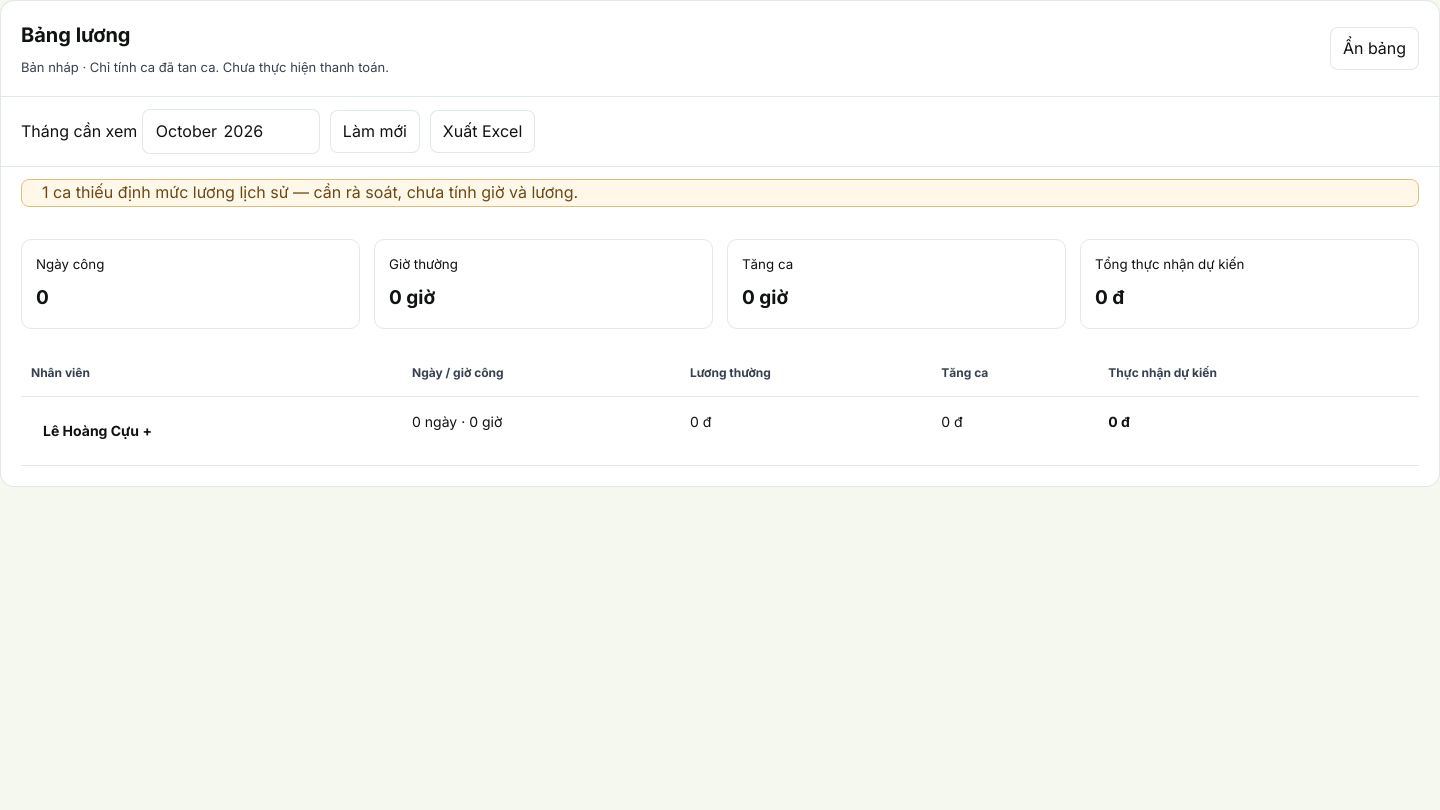
Test: PayrollPanel › renders former members and unknown historical wage snapshots without fabricating rates or showing future-rate editor
The image size is (1440, 810).
Check: the text "1 ca thiếu định mức lương lịch sử — cần rà soát" is shown, box [21,179,1419,207]
Click the button "Lê Hoàng Cựu +" at (97, 431), box [31,411,164,451]
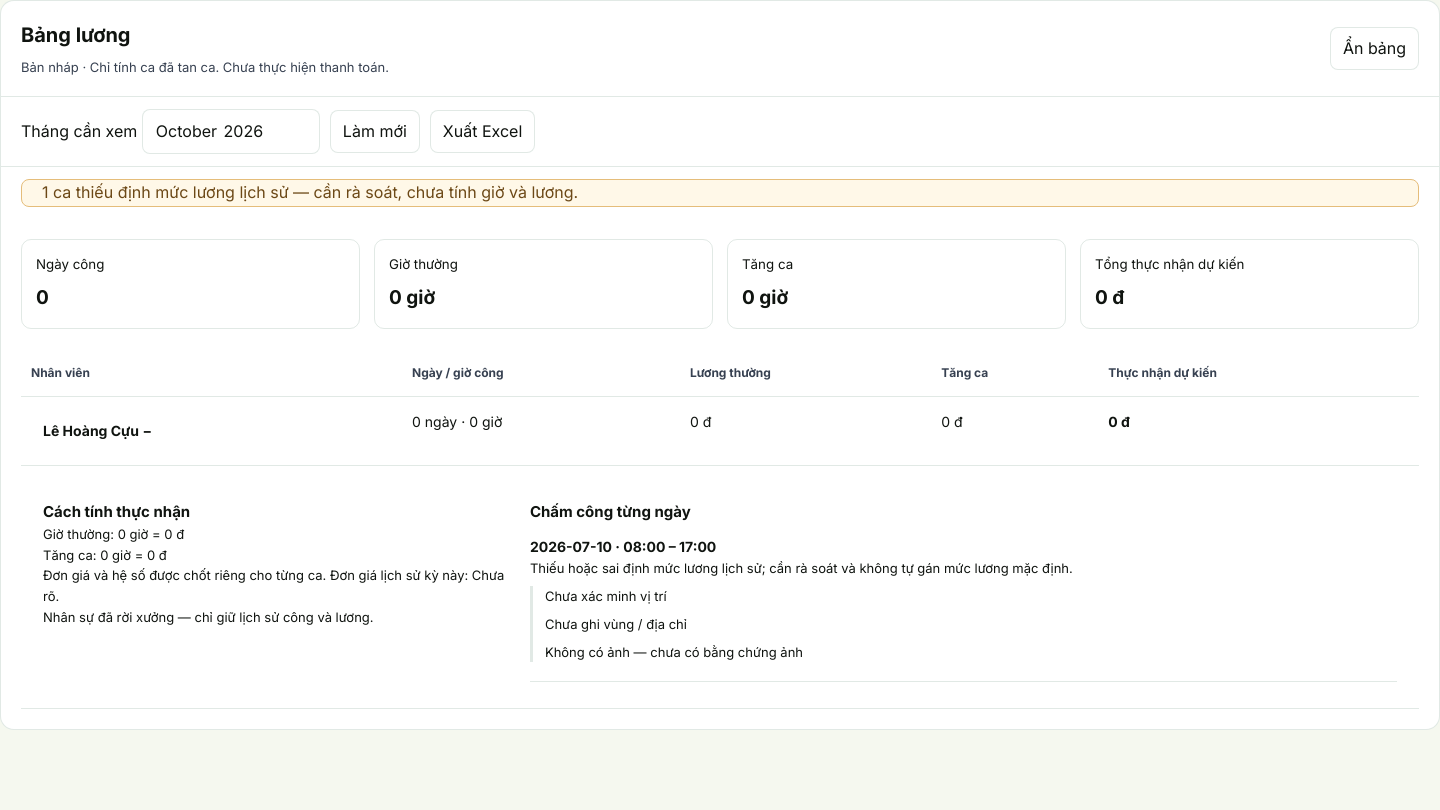
Check: the text "Thiếu hoặc sai định mức lương lịch sử" is shown, box [530,560,1073,576]
